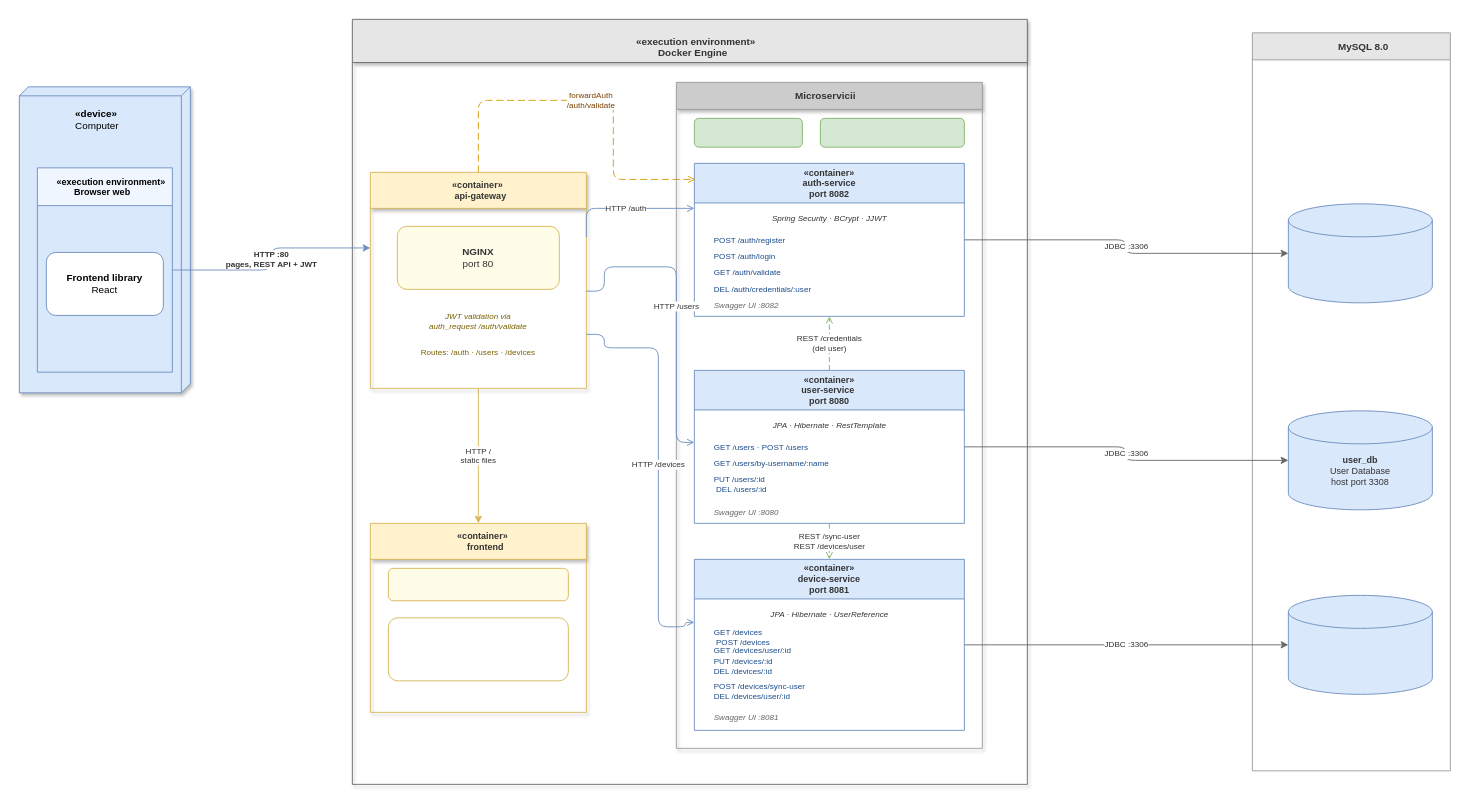
Some shapes in this 1466 by 806 pixel diagram are drawn without their labels. The shapes that lost their labels are listed below. From the top down, each one's centre as x and y in pixels, then its label:
At (x=747, y=132): "Java 17".
At (x=891, y=132): "Spring Boot 4.1.1".
At (x=1359, y=253): "auth_db Credential Database host port 3309".
At (x=477, y=584): "nginx (static files)".
At (x=477, y=649): "«artifact» build React (Vite · MUI v6 · Router v7)".
At (x=1359, y=644): "device_db Device Database host port 3307".
